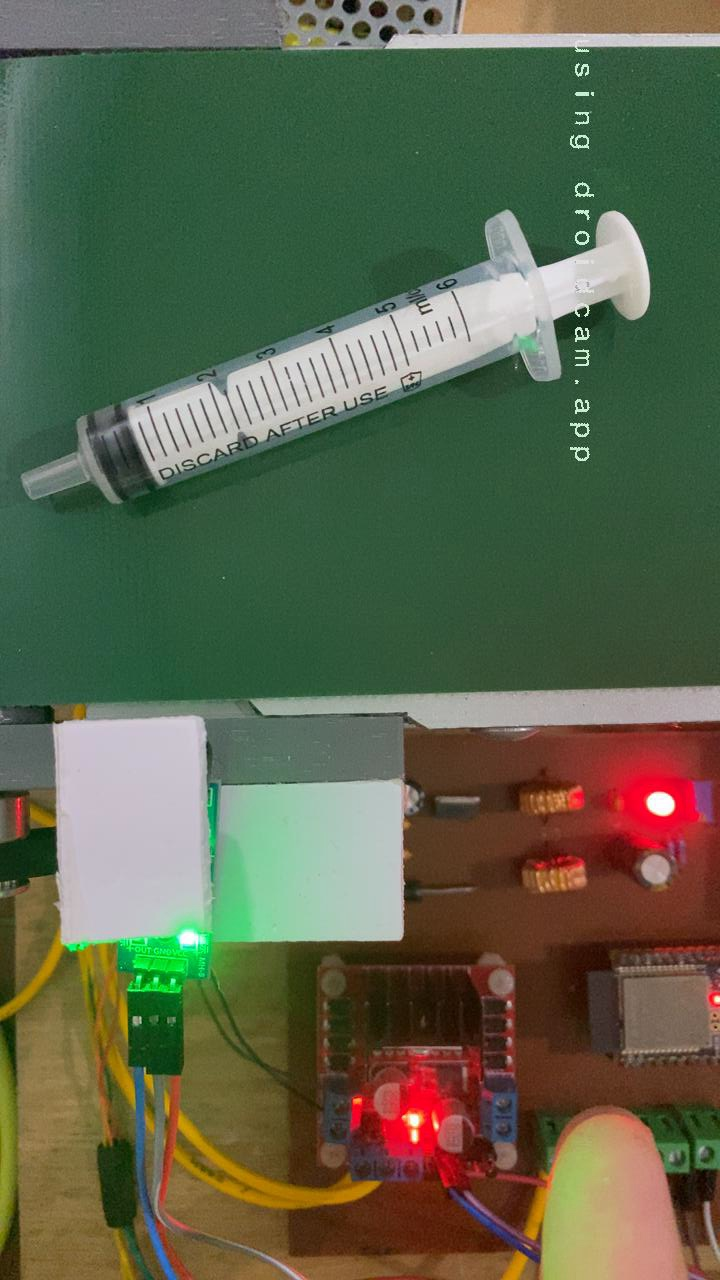syringe: (15, 204, 659, 510)
